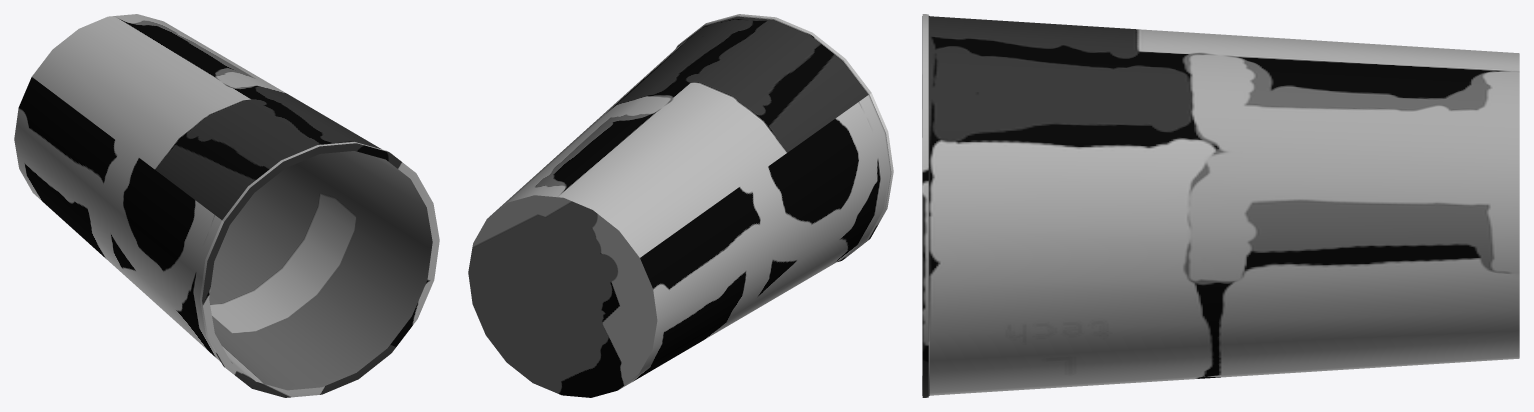
3 renders of one model, left to right at view 1: azimuth 30°, elevation 25°; view 2: azimuth 150°, elevation 25°; view 3: azimuth 270°, elevation 25°, orthographic. The views are drawn at different scales.
Size of the model in its own units: 0.6473 by 0.6473 by 1.
